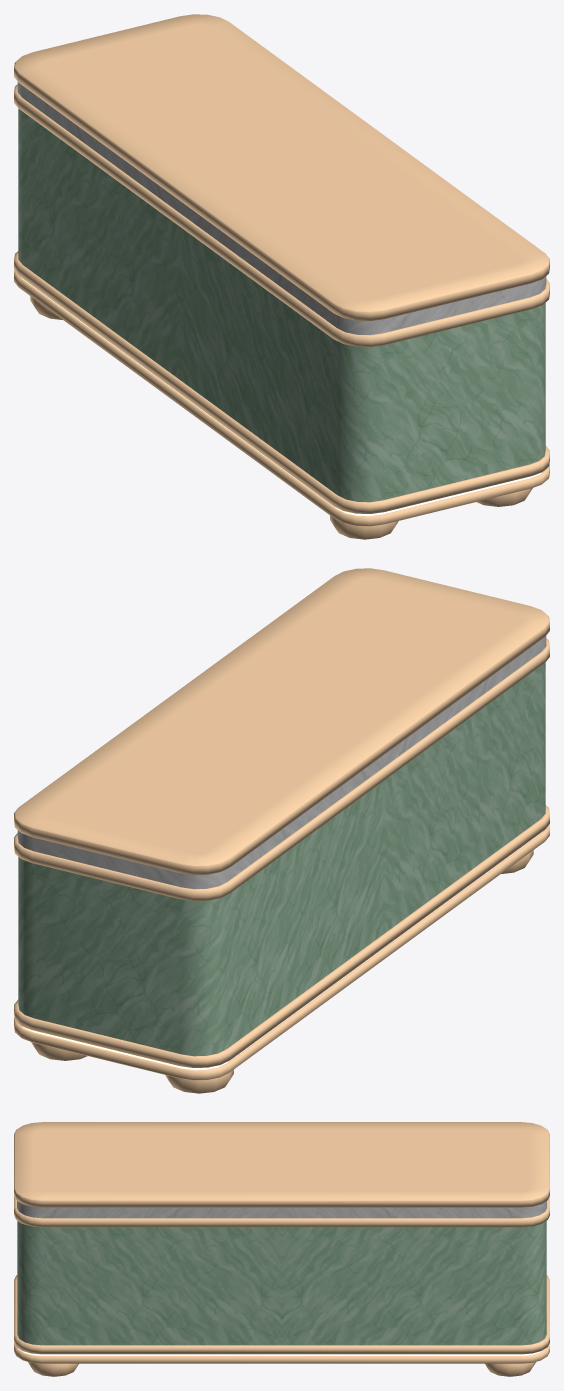
The model's file is Table.glb.
3 renders of one model, top to bottom at view 1: azimuth 30°, elevation 25°; view 2: azimuth 150°, elevation 25°; view 3: azimuth 270°, elevation 25°, orthographic. The views are drawn at different scales.
Parts seen in each view (by area): view 1: TableTop, SofaLeg.002; view 2: TableTop, SofaLeg.002; view 3: TableTop, SofaLeg.002.
Part boxes in pixels (left/top/right/bottom): TableTop: left=14, top=14, right=549, bottom=526; SofaLeg.002: left=30, top=296, right=532, bottom=539; TableTop: left=14, top=568, right=549, bottom=1080; SofaLeg.002: left=31, top=850, right=533, bottom=1093; TableTop: left=14, top=1122, right=549, bottom=1363; SofaLeg.002: left=28, top=1362, right=535, bottom=1376.
Size of what is drawn, in the model's own units: 0.928 by 0.9999 by 2.68.
4 materials, 2 textured.
